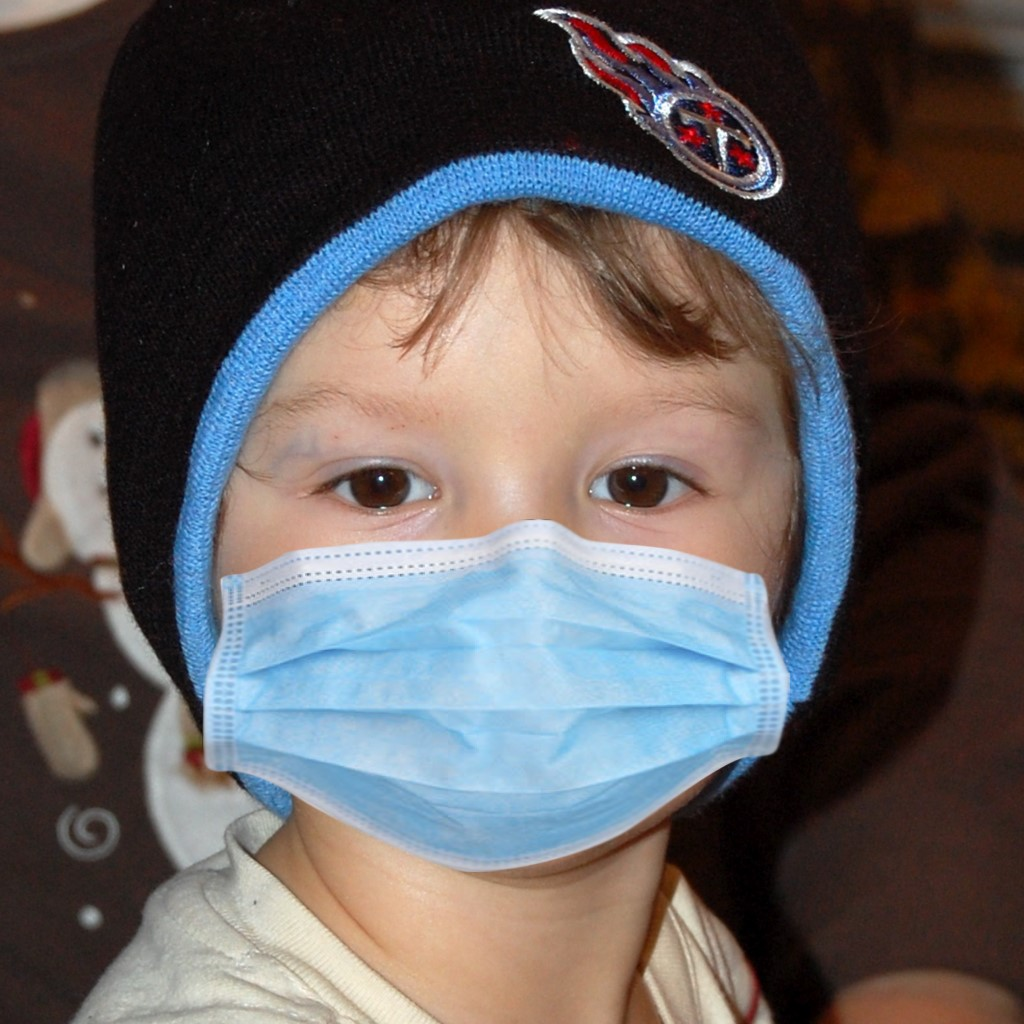con_mascara: (185, 155, 787, 875)
